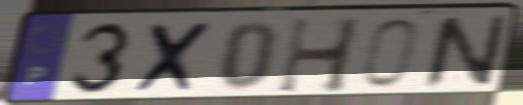0: (358, 15, 427, 92), (216, 20, 283, 94)
3: (64, 20, 139, 99)
H: (273, 15, 366, 96)
N: (421, 12, 513, 92)
X: (130, 20, 220, 96)
